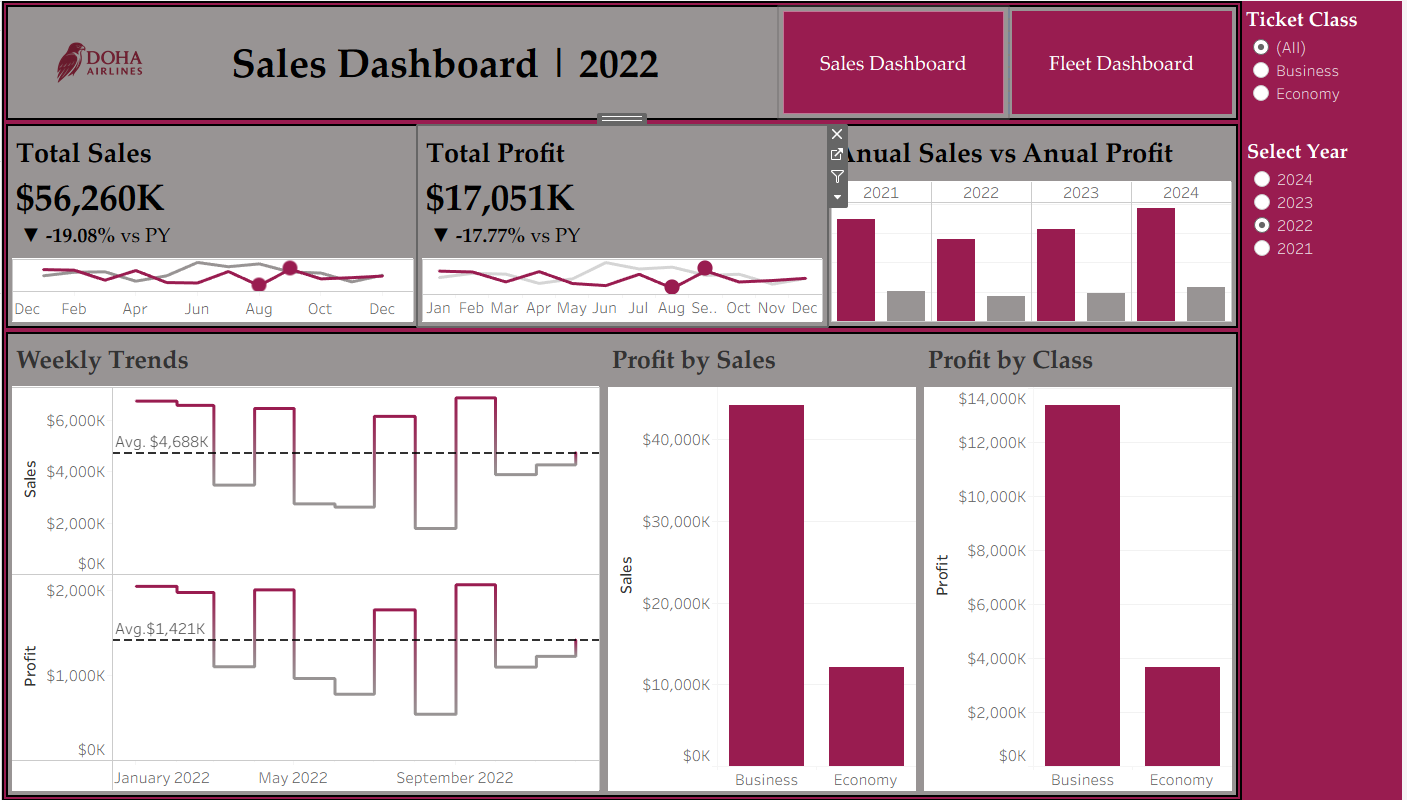

The page's visual inventory and layout, read from the dashboard file:
{"tool":"tableau","page":{"name":"Dashboard 1","canvas":[1400,800],"ordinal":0},"visuals":[{"type":"filter","title":"T Sales","param":"[federated.024ssg60ckmh1614bqlsv06hhw7s].[none:Ticket_Class:nk]","box":[1240,0,160,111]},{"type":"image","param":"C:/Users/karaa/Downloads/ChatGPT Image Jul 20, 2025, 03_23_59 PM.png","box":[6,6,186,111]},{"type":"text","box":[192,6,585,111]},{"type":"dashboard-object","box":[777,6,229,111]},{"type":"dashboard-object","box":[1006,6,228,111]},{"type":"blank","box":[33.8,81,466.7,26]},{"type":"worksheet","title":"T Sales","mark":"Automatic","rows":["Calculation_1483091684777553930"],"cols":["Date"],"box":[6,125,410,200]},{"type":"worksheet","title":"T Profit","mark":"Automatic","rows":["Calculation_1483091685080403989"],"cols":["Date"],"box":[416,125,409,200]},{"type":"worksheet","title":"T Tickets","mark":"Bar","cols":["Date"],"box":[825,125,409,200]},{"type":"parameter","param":"[Parameters].[Parameter 1]","box":[1245,136,147,128]},{"type":"worksheet","title":"Chart 1.1","mark":"Automatic","rows":["Calculation_1483091684773498886","Calculation_1483091684805287952"],"cols":["Date"],"box":[6,333,596,461]},{"type":"worksheet","title":"Chart 1.2","mark":"Automatic","rows":["Calculation_1483091684773498886"],"cols":["Ticket_Class"],"box":[602,333,316,461]},{"type":"worksheet","title":"Chart 1.3","mark":"Automatic","rows":["Calculation_1483091684805287952"],"cols":["Ticket_Class"],"box":[918,333,316,461]}]}

Visuals, with their boxes in screenshot pixels (x1, y1, x2, y2), scaled from the page's 1400x800 canvas onto the 1407x800 screenshot:
"T Sales" filter: 1246,0,1406,111
image: 6,6,193,117
text: 193,6,781,117
dashboard-object: 781,6,1011,117
dashboard-object: 1011,6,1240,117
blank: 34,81,503,107
"T Sales" worksheet: 6,125,418,325
"T Profit" worksheet: 418,125,829,325
"T Tickets" worksheet (Bar marks): 829,125,1240,325
parameter: 1251,136,1399,264
"Chart 1.1" worksheet: 6,333,605,794
"Chart 1.2" worksheet: 605,333,923,794
"Chart 1.3" worksheet: 923,333,1240,794
